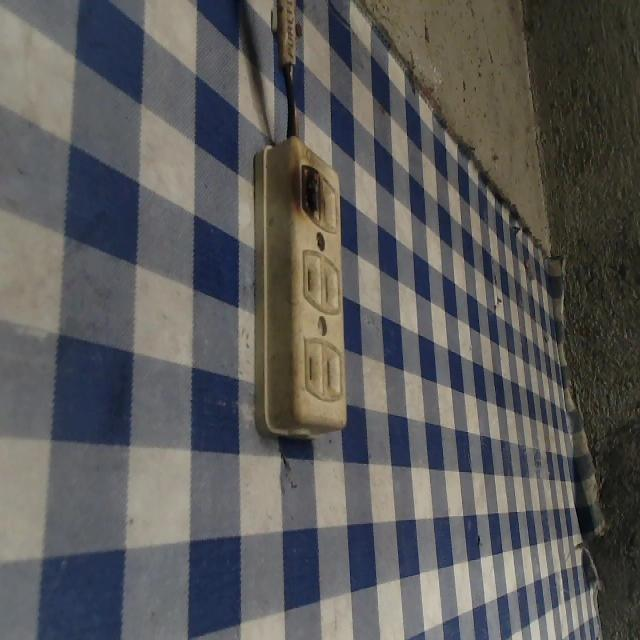-: (295, 152, 328, 233)
